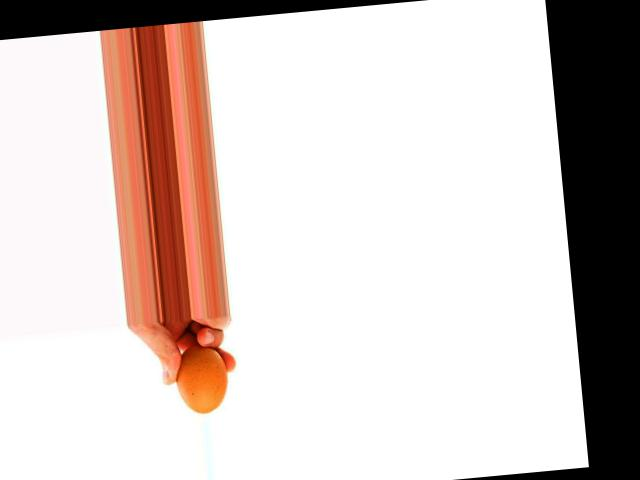egg: (173, 343, 231, 415)
